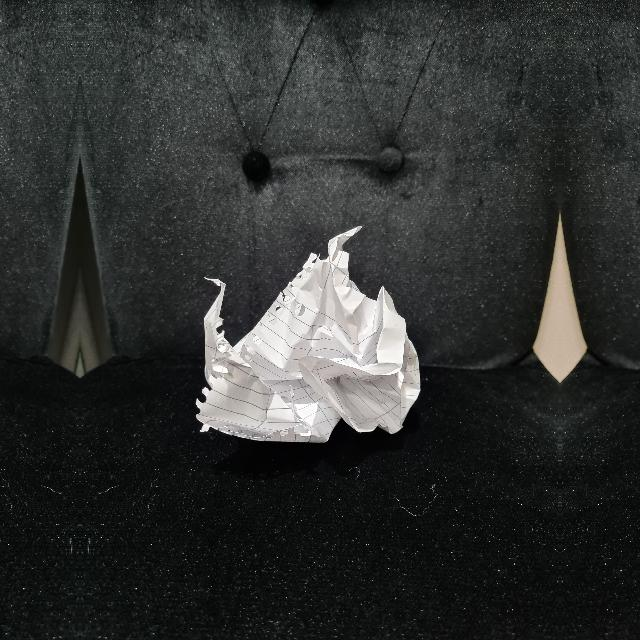paper: (194, 228, 428, 457)
